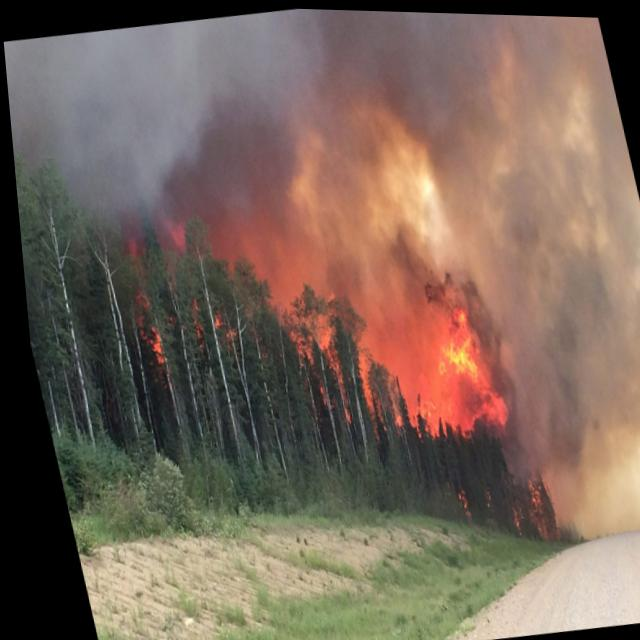Fire: (95, 172, 516, 486), (442, 453, 564, 561)
